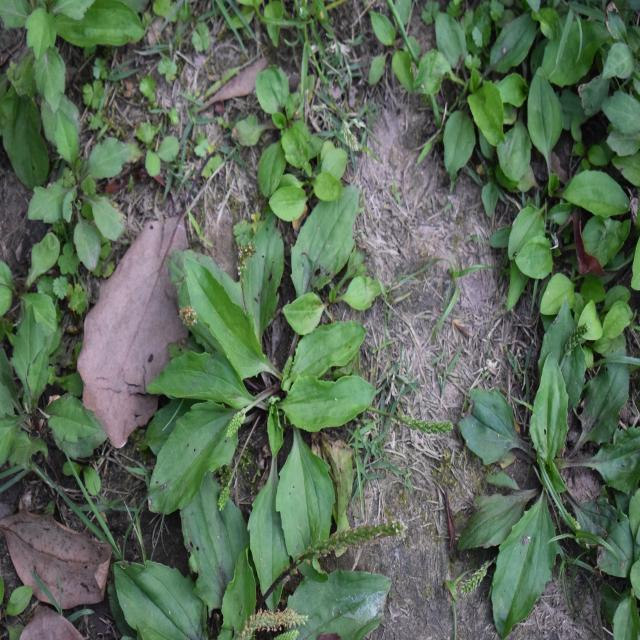plantain: (156, 218, 382, 556)
